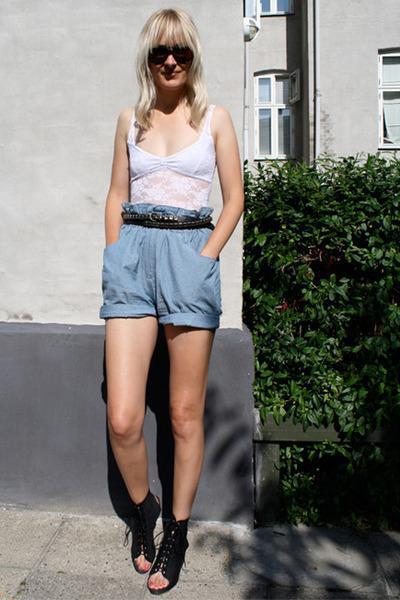shirt: (129, 109, 220, 216)
shoe: (125, 492, 189, 587)
shorts: (100, 204, 222, 326)
sunglass: (147, 44, 193, 83)
